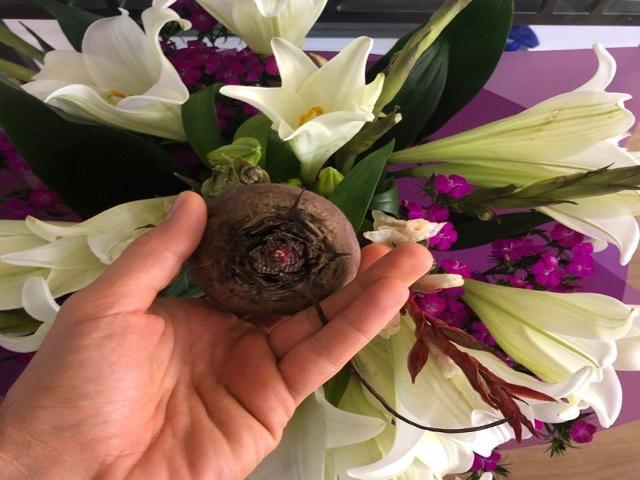beet: (191, 182, 363, 320)
